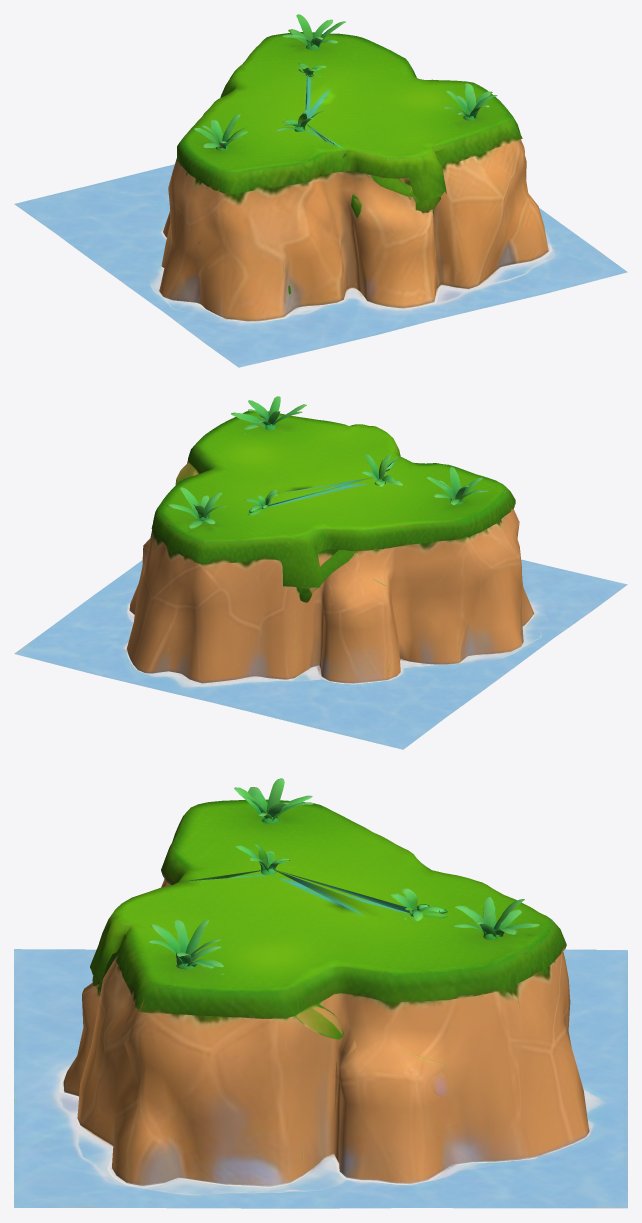
Rendered from s2_r6c6_irregular_grass_islet.glb.
The picture shows the model from 3 angles, top to bottom: view 1: azimuth 30°, elevation 25°; view 2: azimuth 150°, elevation 25°; view 3: azimuth 270°, elevation 25°; orthographic projection. The views are drawn at different scales.
Bounding box in the file's own units: 1 × 0.3909 × 1.
Materials: 1 (1 with a texture image).
